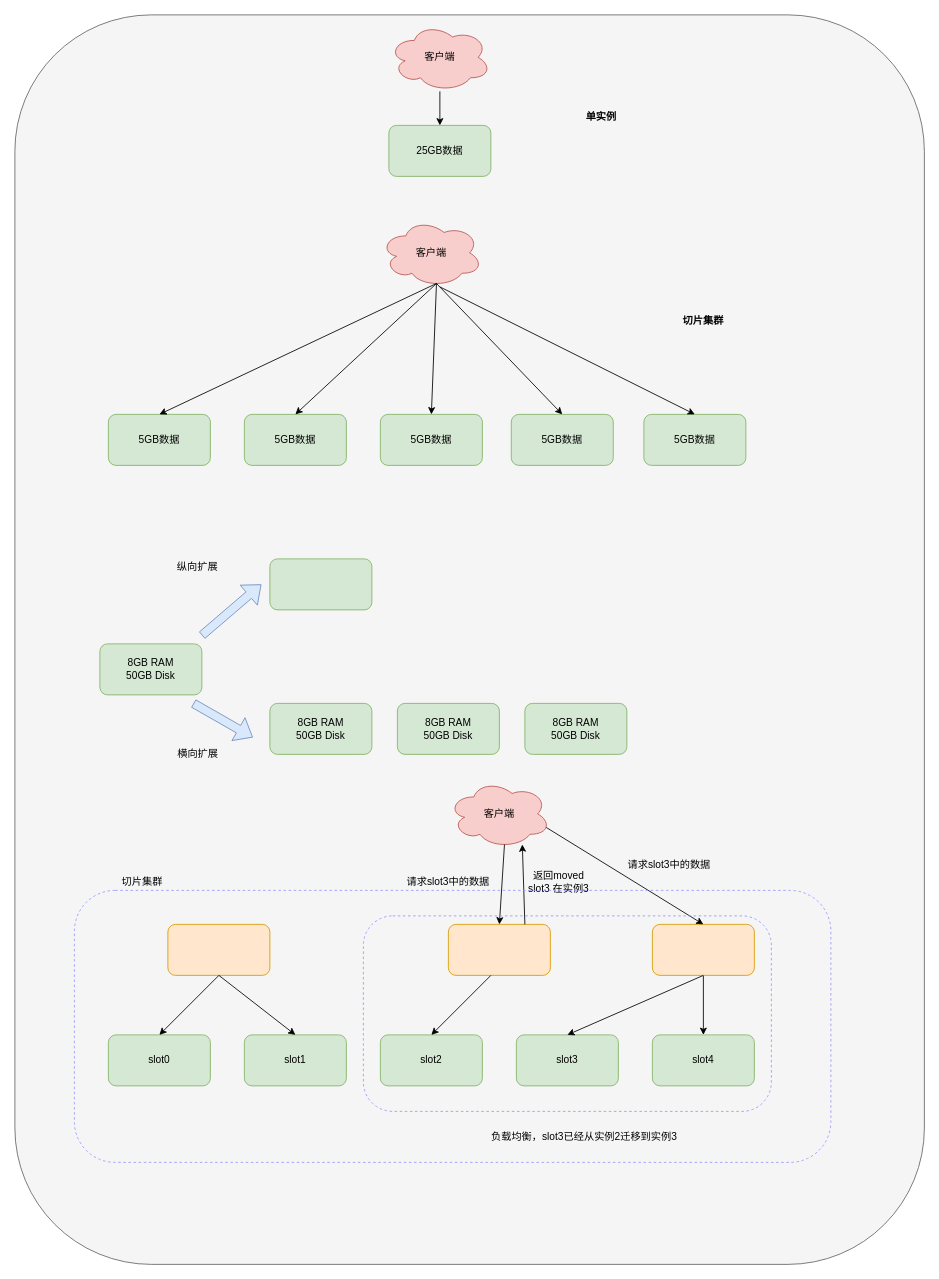
The diagram is 939 pixels wide and 1279 high, and some of its shapes have lost their labels. Each missing label, with the centre of its shape:
24GB RAM 150GB Disk: the point at 320,584
实例1 172.16.19.1: the point at 218,949
实例2 172.16.19.2: the point at 499,949
实例3 172.16.19.3: the point at 703,949
